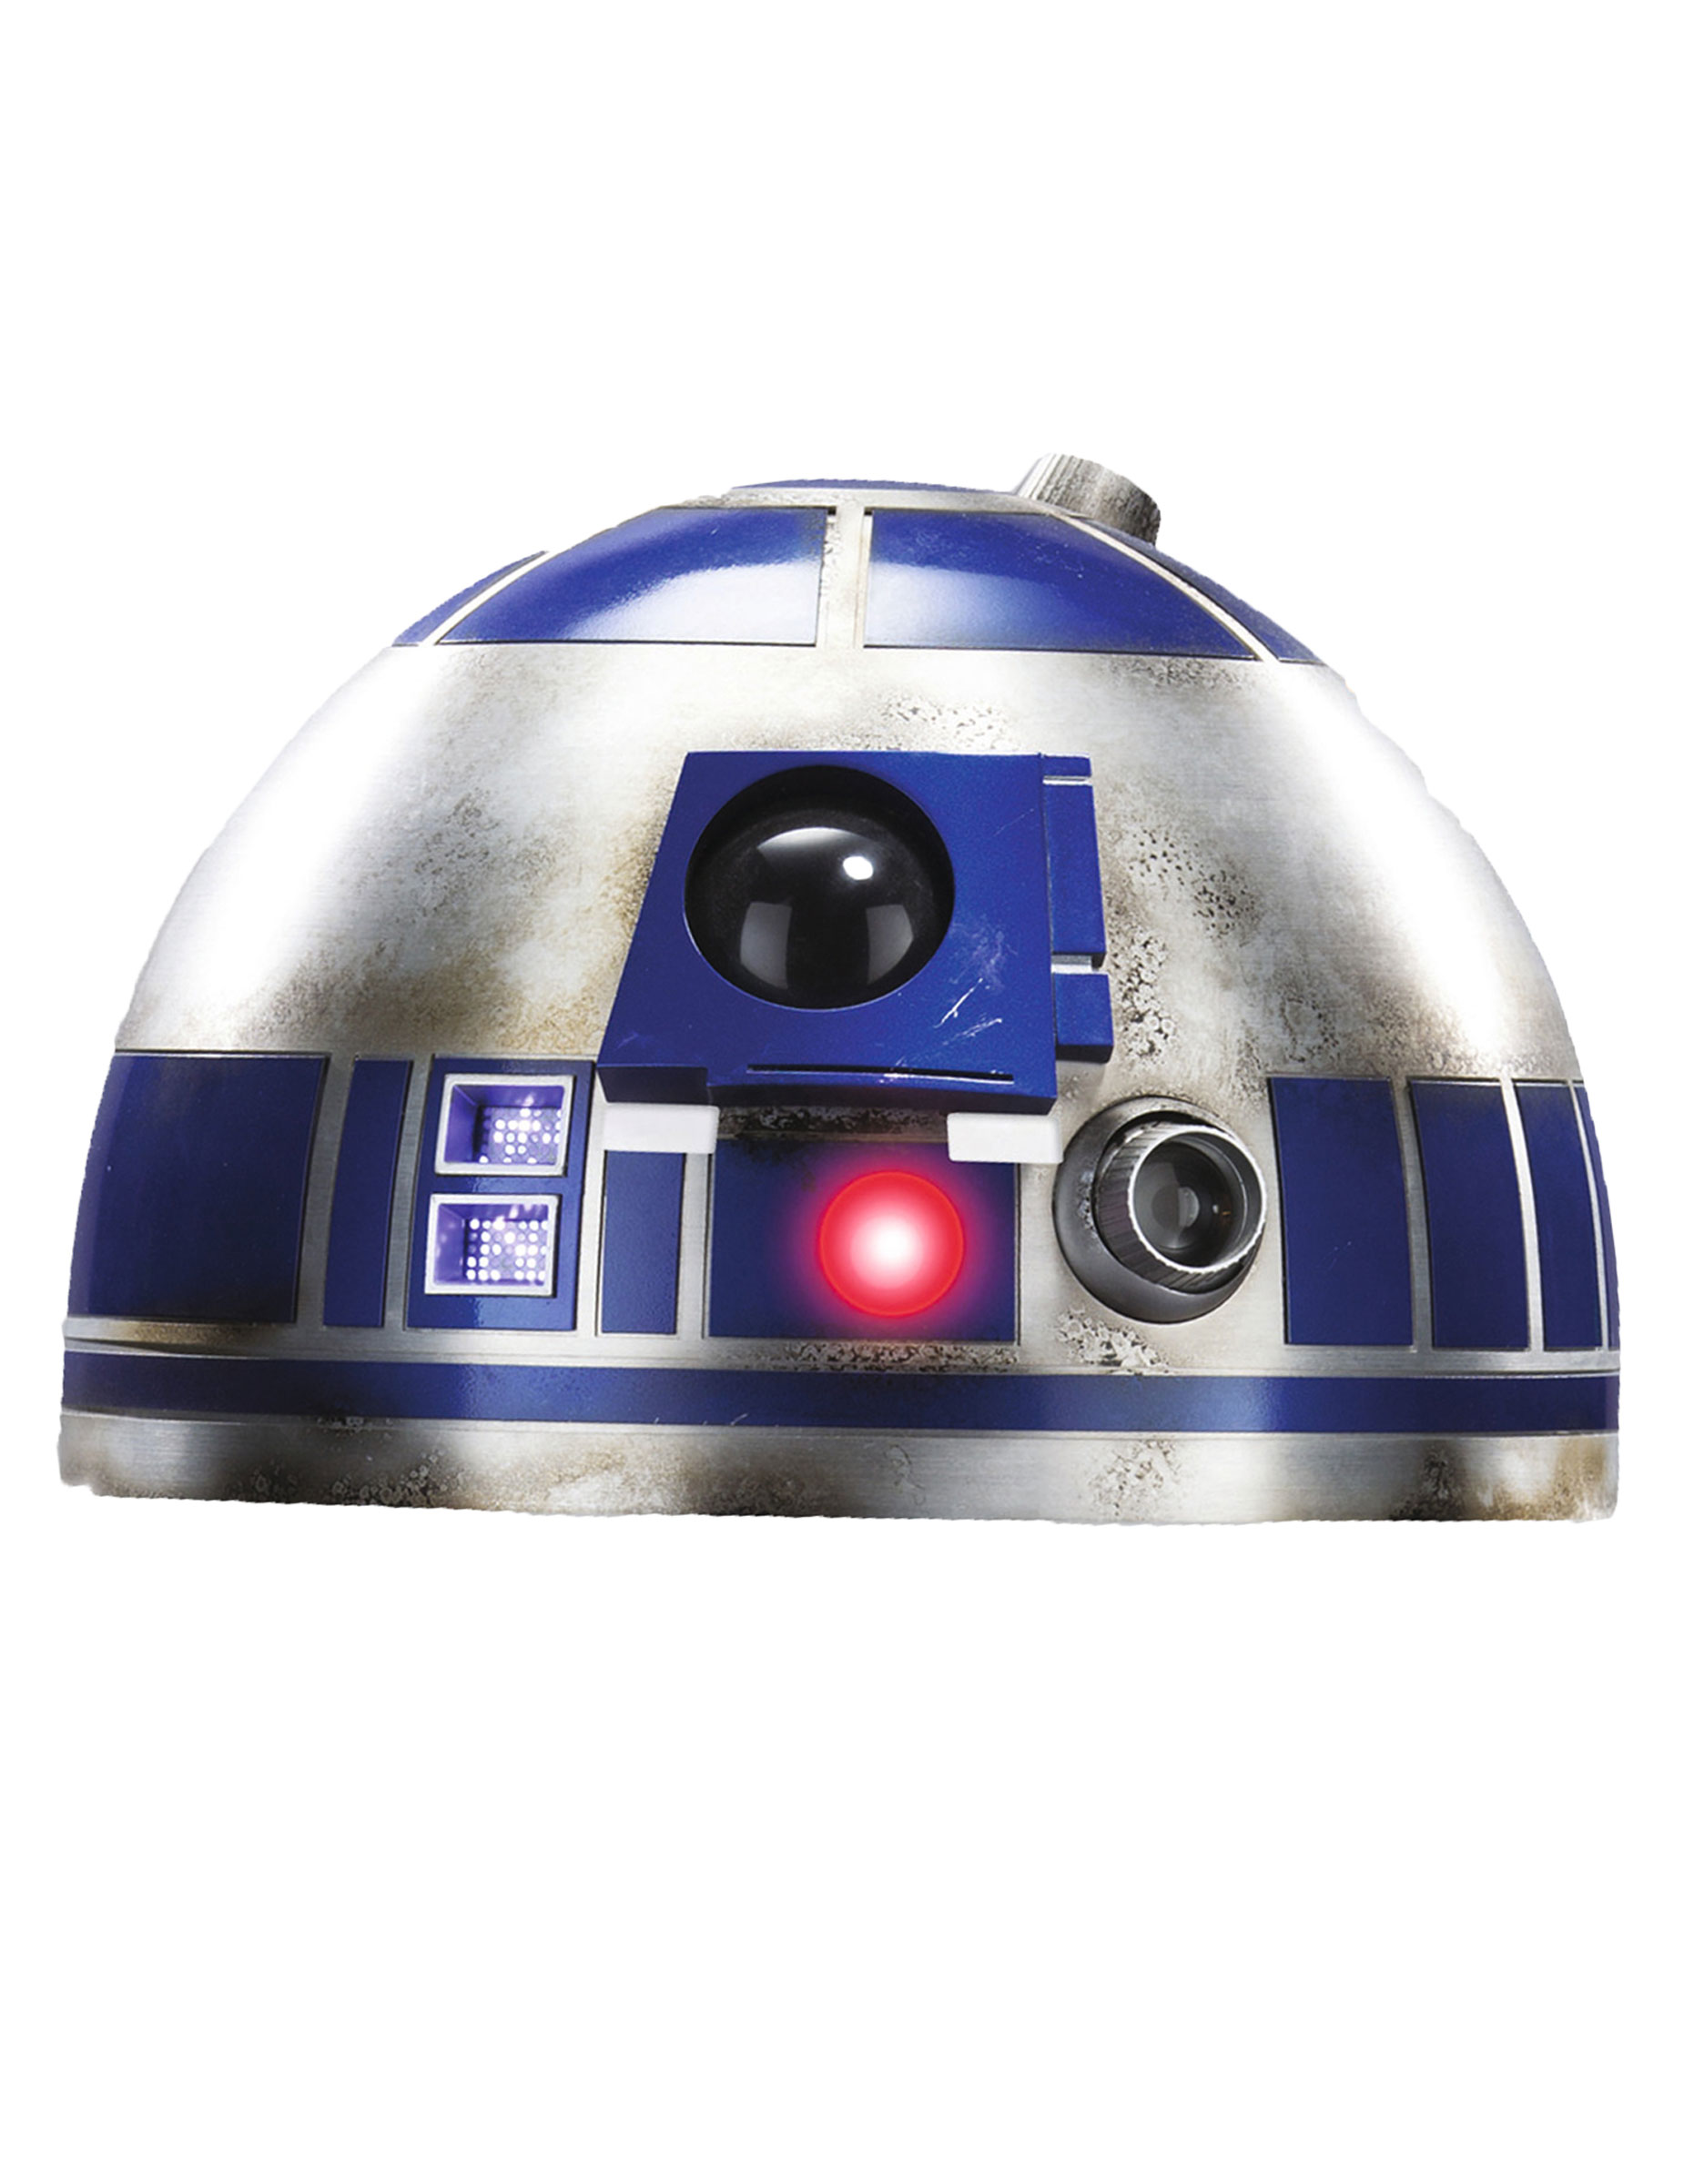r2d2: (57, 454, 1617, 1521)
